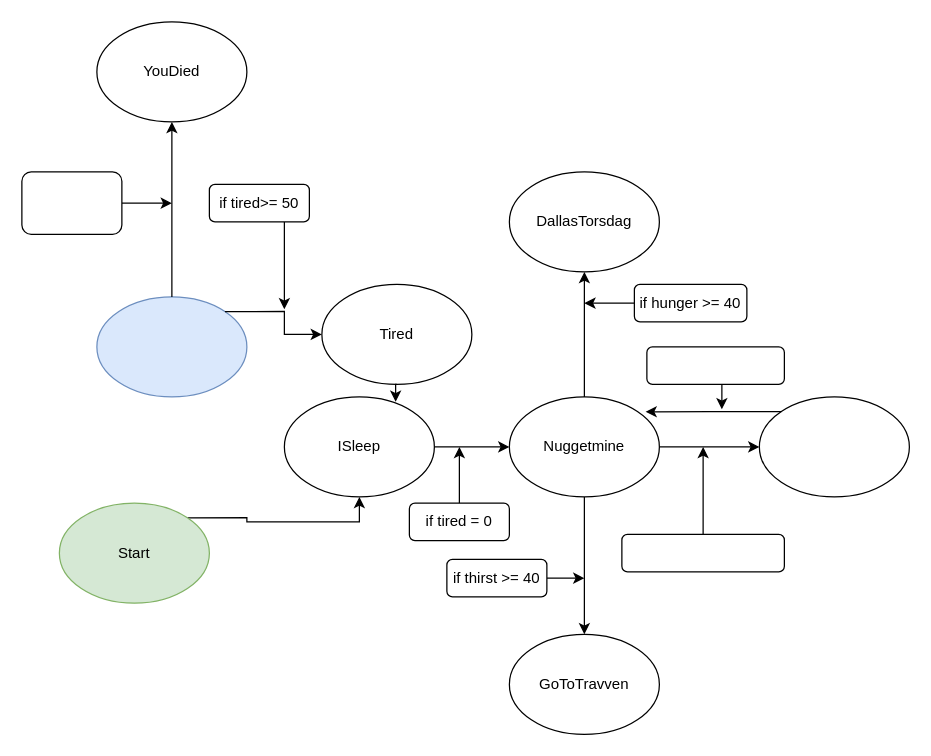
The diagram is 931 pixels wide and 756 high, and some of its shapes have lost their labels. Each missing label, with the box of its shape:
Any State: (96, 296, 247, 397)
if hungry>= 50 or if thirsty >= 50: (21, 171, 122, 234)
if nuggiesCarried = 0: (646, 346, 784, 384)
if nuggiesCarried >= pocketsize: (621, 533, 784, 572)
PushForceBank: (758, 396, 909, 497)
